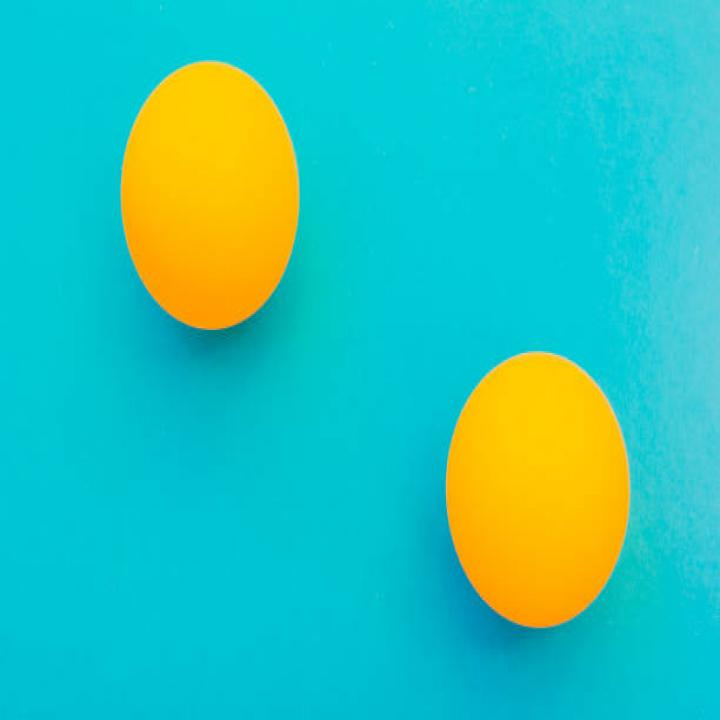orange: (446, 351, 629, 630), (121, 64, 299, 332)
